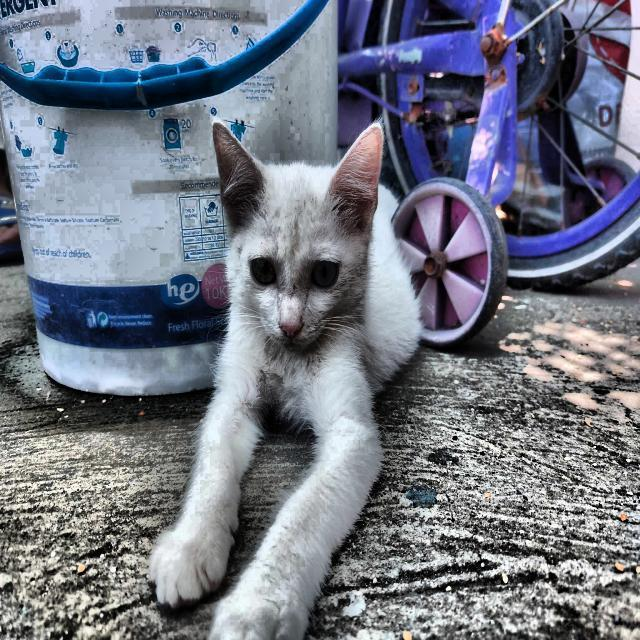Healthy skin: (212, 124, 386, 371)
